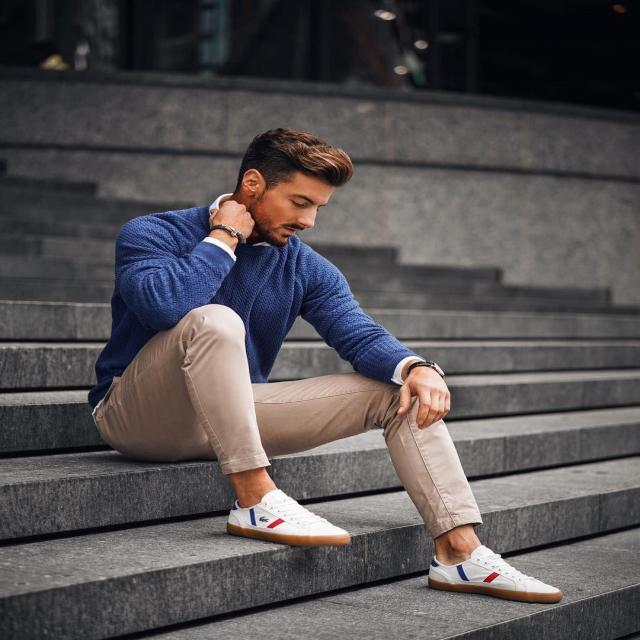person: (51, 77, 568, 611)
